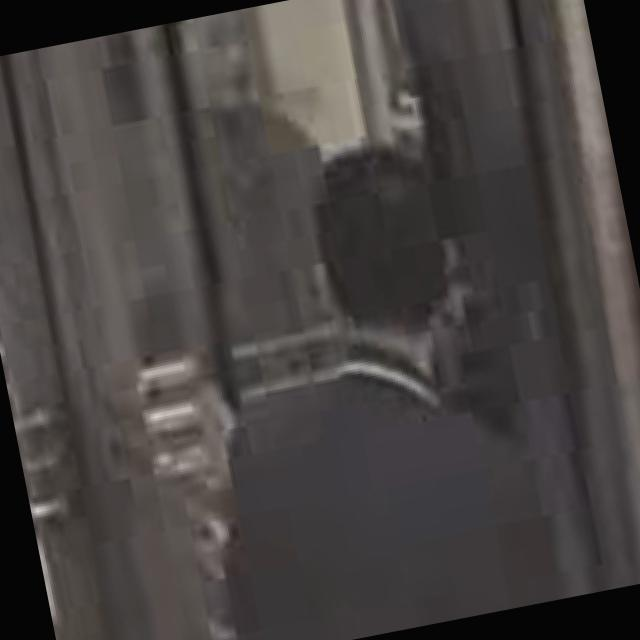person: (131, 116, 584, 640)
